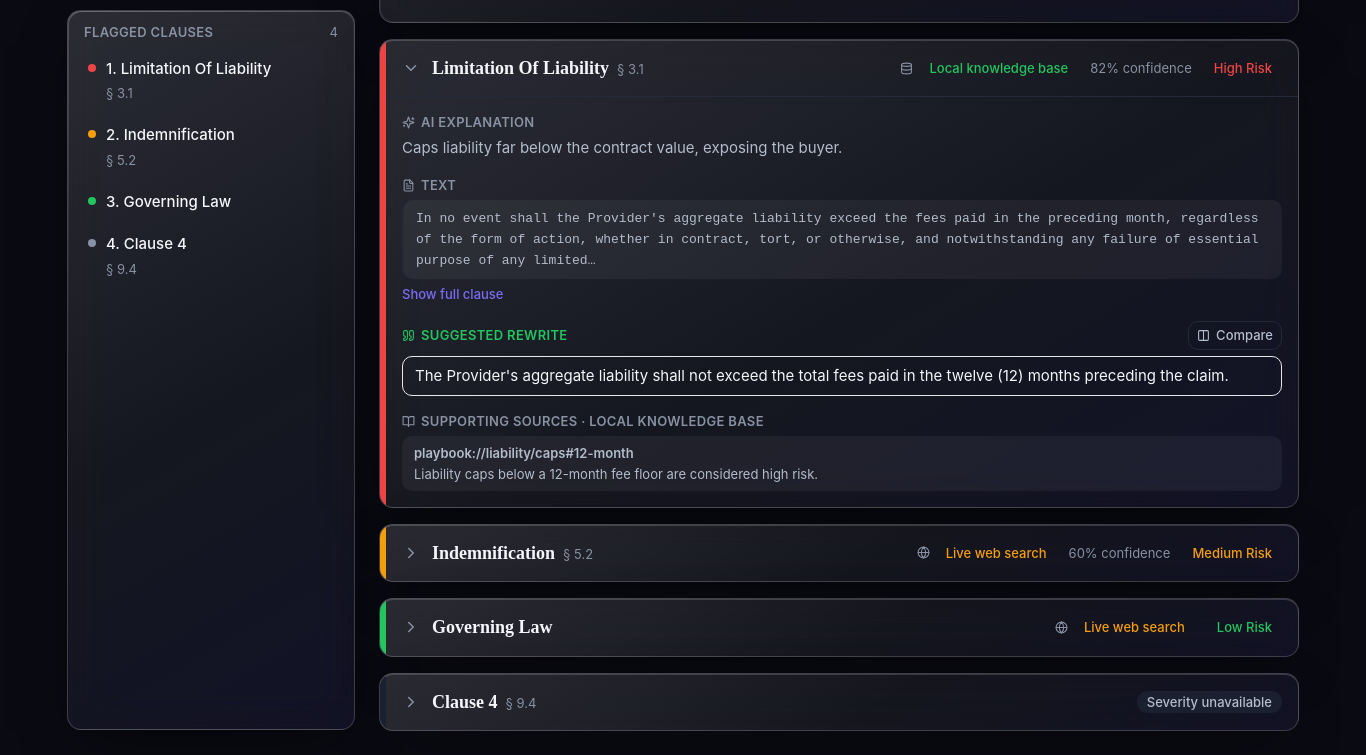
Test: ReportView (spec 017 AC-1,3-11, EC-2) › rationale_and_no_business_impact
(page scrolled)
expect the text "Caps liability far below the contract value" is shown: met, box [402,138,842,157]
What coordinates should you click on to do the following:
click the button "Clause 4§ 9.4 Severity unavailable"
I would click on:
 (465, 702)
Its box is [386,674,1298,730].
(page scrolled)
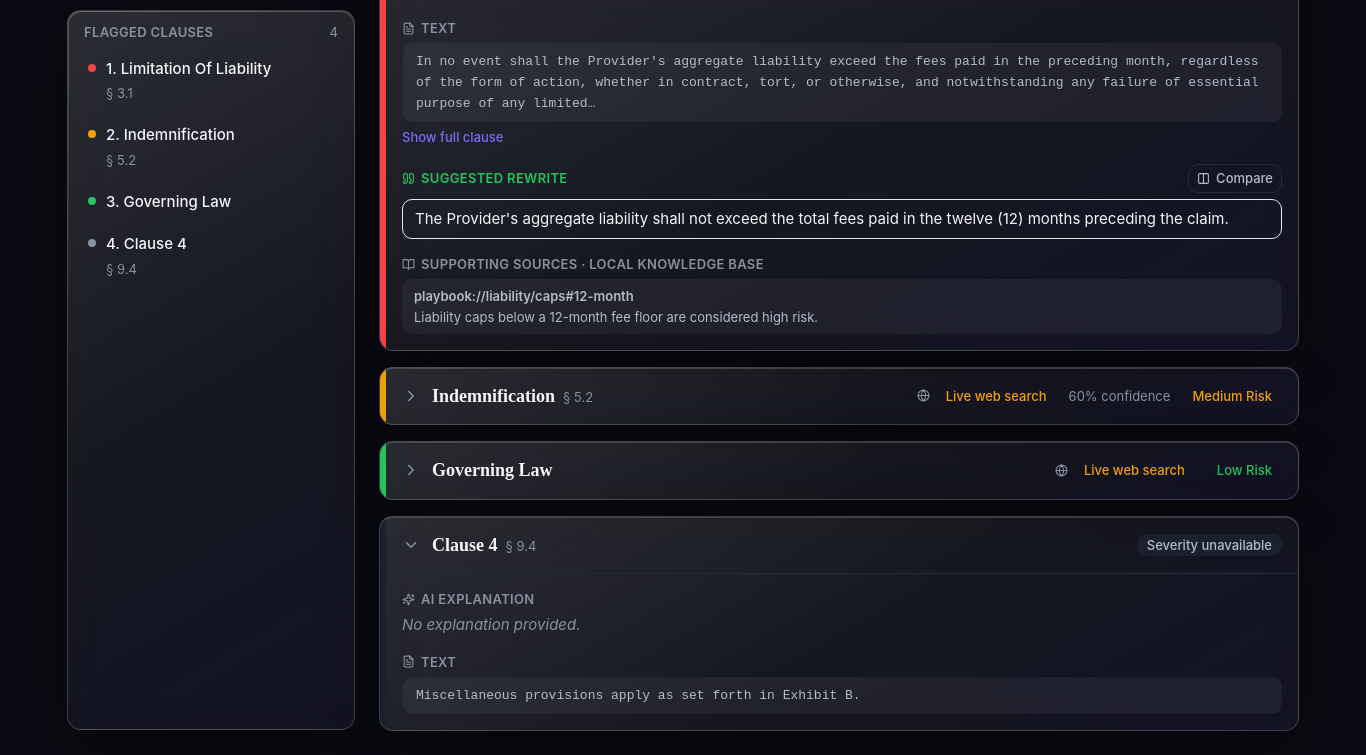
expect the text "No explanation provided." is shown: met, box [402,615,580,634]
